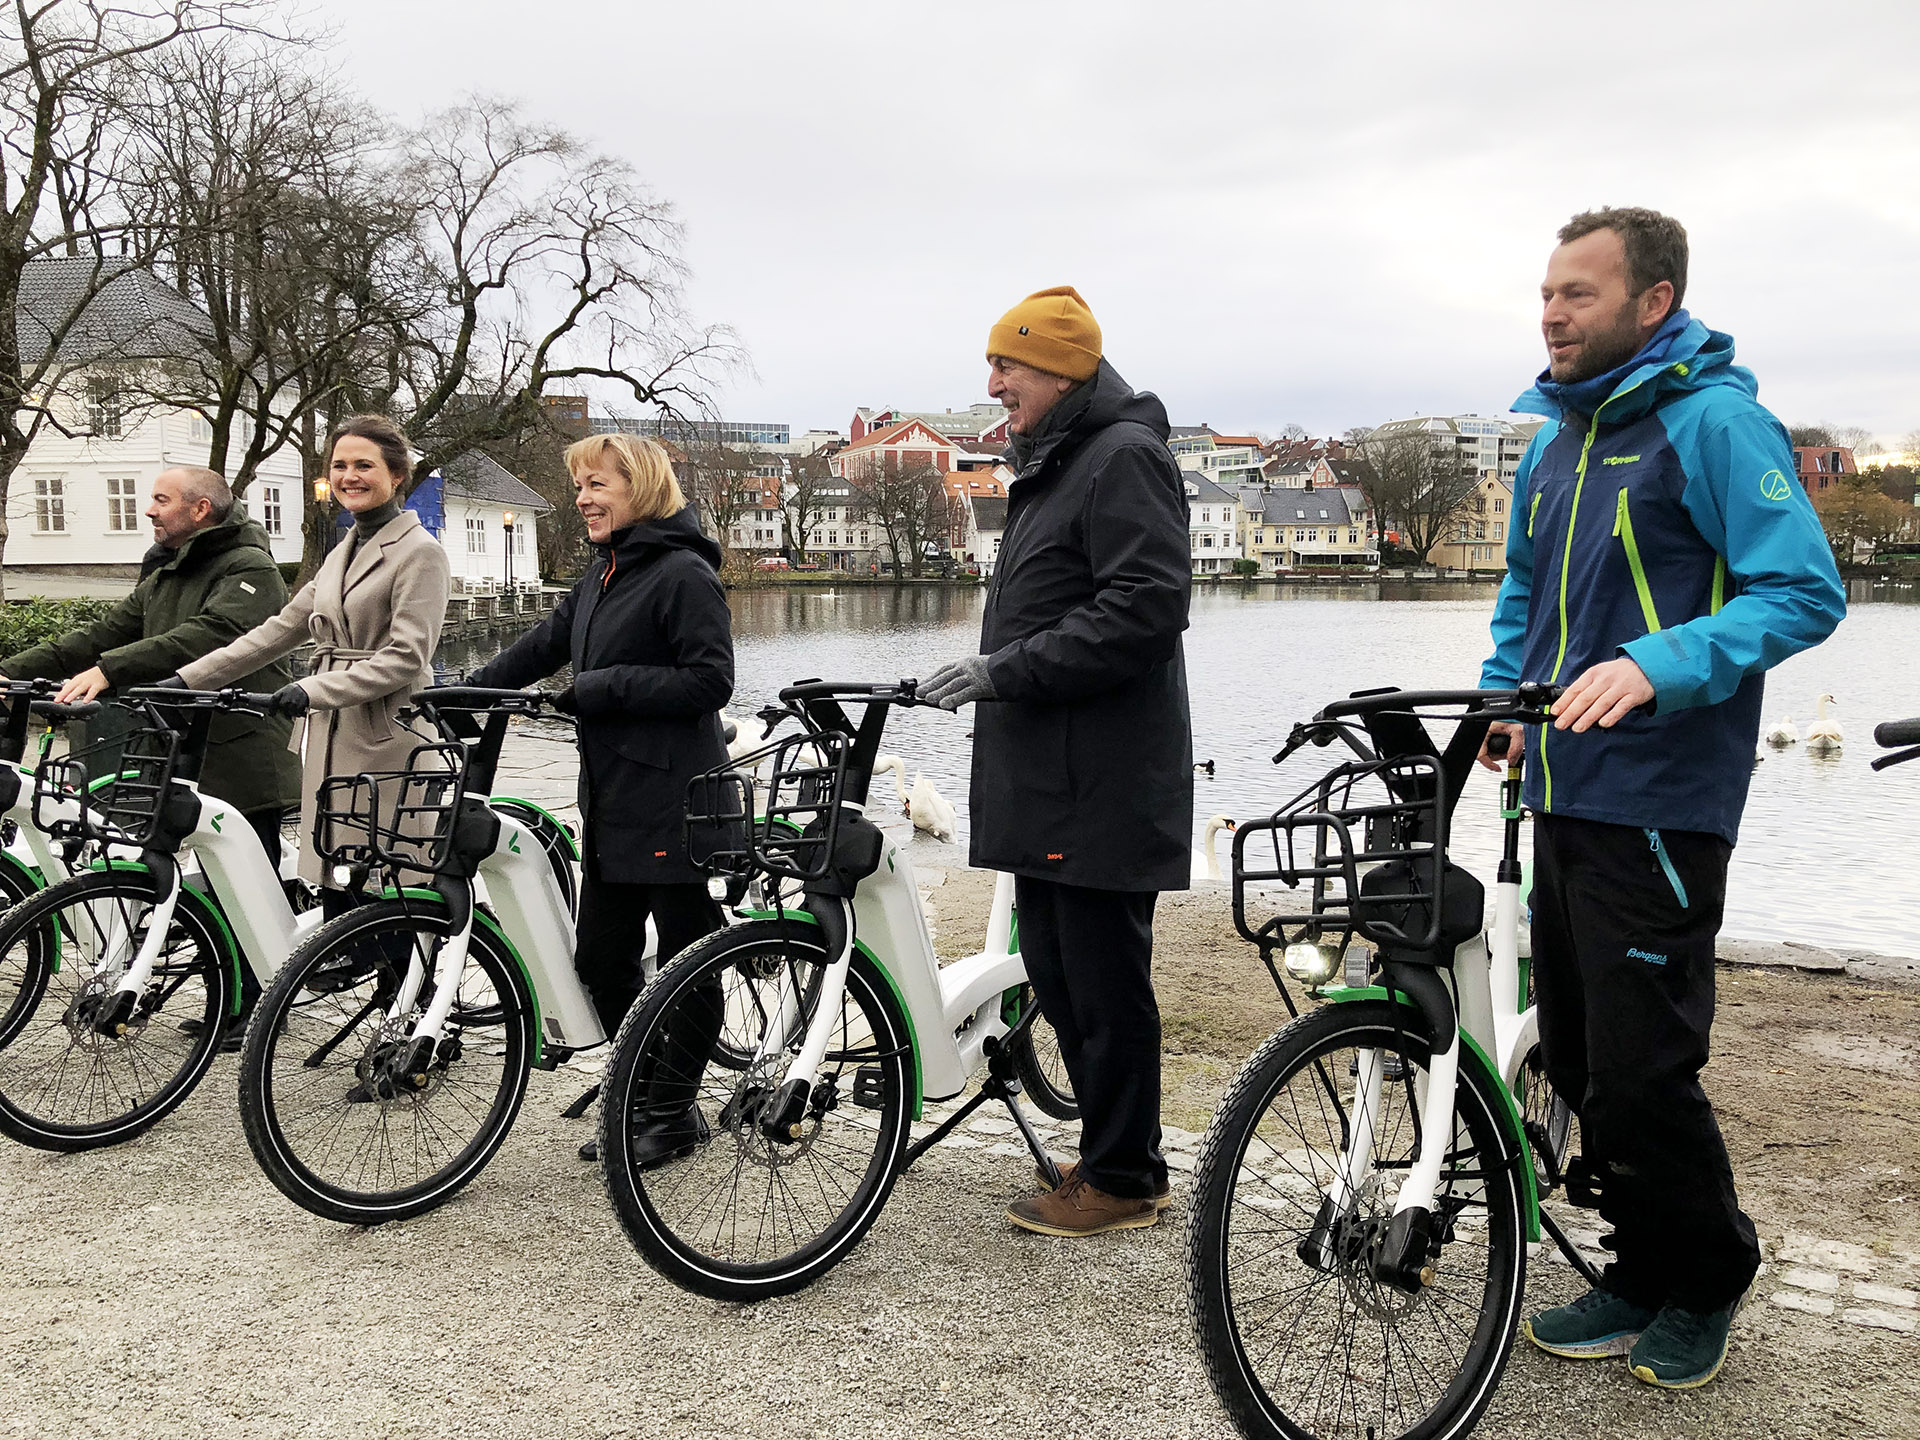Person: (1469, 205, 1849, 1392), (908, 284, 1197, 1238), (451, 432, 737, 1169), (166, 413, 451, 1101), (1, 459, 289, 1043)
